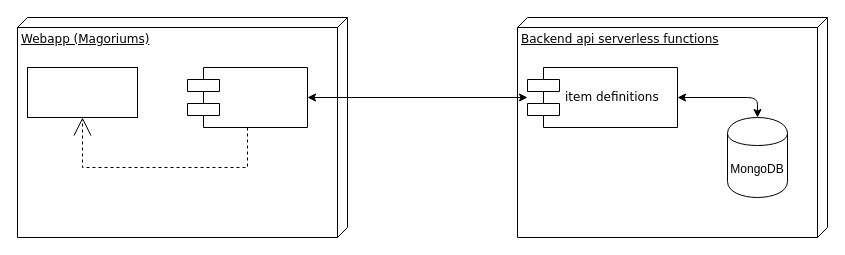
Image size: 845x255. Some labels were removed from this diagram. Here are the shapes that lost their labels. From the top down, the centre of each, then its label:
At (x=82, y=92): "React App".
At (x=247, y=97): "fetch functions".
